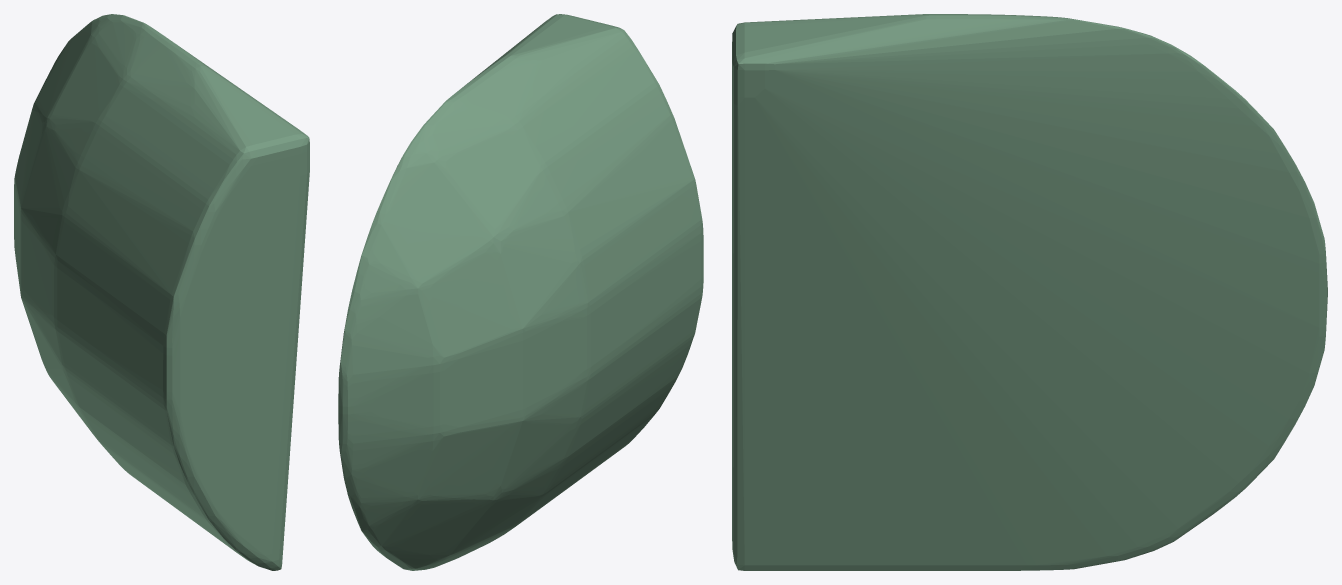
Rendered from left_f_proximal_part_0.obj.
3 renders of one model, left to right at view 1: azimuth 30°, elevation 25°; view 2: azimuth 150°, elevation 25°; view 3: azimuth 270°, elevation 25°, orthographic. The views are drawn at different scales.
Bounding box in the file's own units: 5.23 × 15.55 × 15.16.
